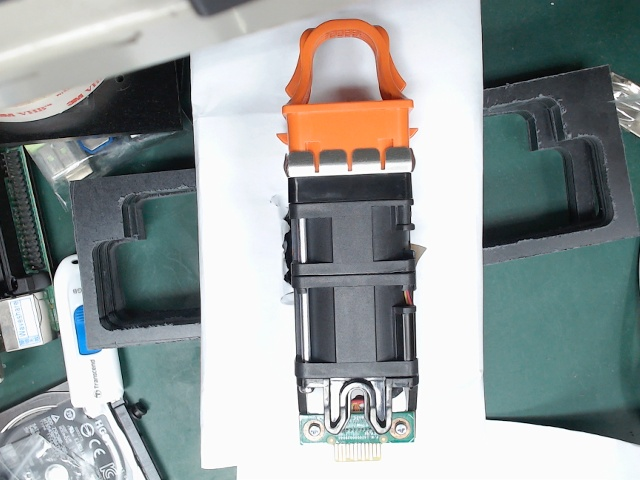1_0: (54, 60, 603, 337)
